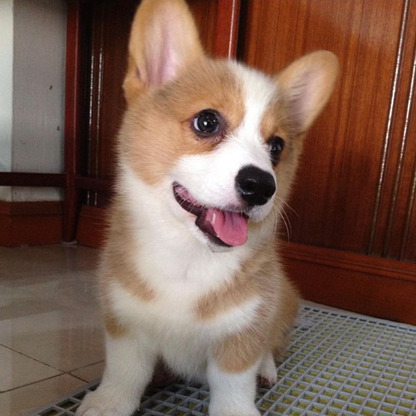Corgi: (107, 13, 327, 395)
